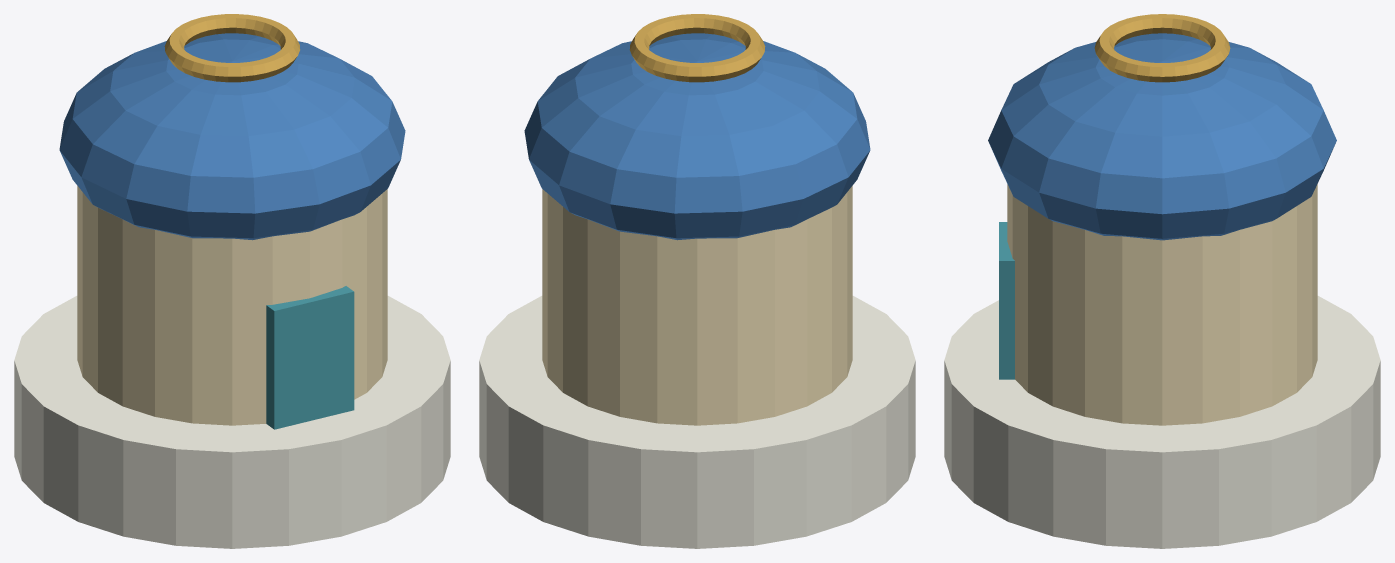
File: greece-blue-dome-box.glb
3 renders of one model, left to right at view 1: azimuth 30°, elevation 25°; view 2: azimuth 150°, elevation 25°; view 3: azimuth 270°, elevation 25°, orthographic.
Visible parts, largest first — view 1: しろい だい, あおい ドーム, しろい いえ, いりぐち, おんがくの わ; view 2: しろい だい, しろい いえ, あおい ドーム, おんがくの わ; view 3: しろい だい, しろい いえ, あおい ドーム, おんがくの わ, いりぐち.
Part boxes in pixels (x1,y1,x2,y2): しろい だい: [14, 296, 450, 548]; あおい ドーム: [59, 33, 405, 240]; しろい いえ: [77, 186, 387, 425]; いりぐち: [266, 286, 354, 429]; おんがくの わ: [164, 14, 300, 82]; しろい だい: [479, 296, 915, 548]; しろい いえ: [542, 186, 852, 425]; あおい ドーム: [524, 33, 870, 240]; おんがくの わ: [629, 14, 765, 82]; しろい だい: [944, 296, 1380, 548]; しろい いえ: [1007, 184, 1317, 425]; あおい ドーム: [988, 33, 1336, 240]; おんがくの わ: [1094, 14, 1230, 82]; いりぐち: [999, 222, 1014, 379].
Size of the model in its own units: 0.9 by 0.9473 by 0.9.
